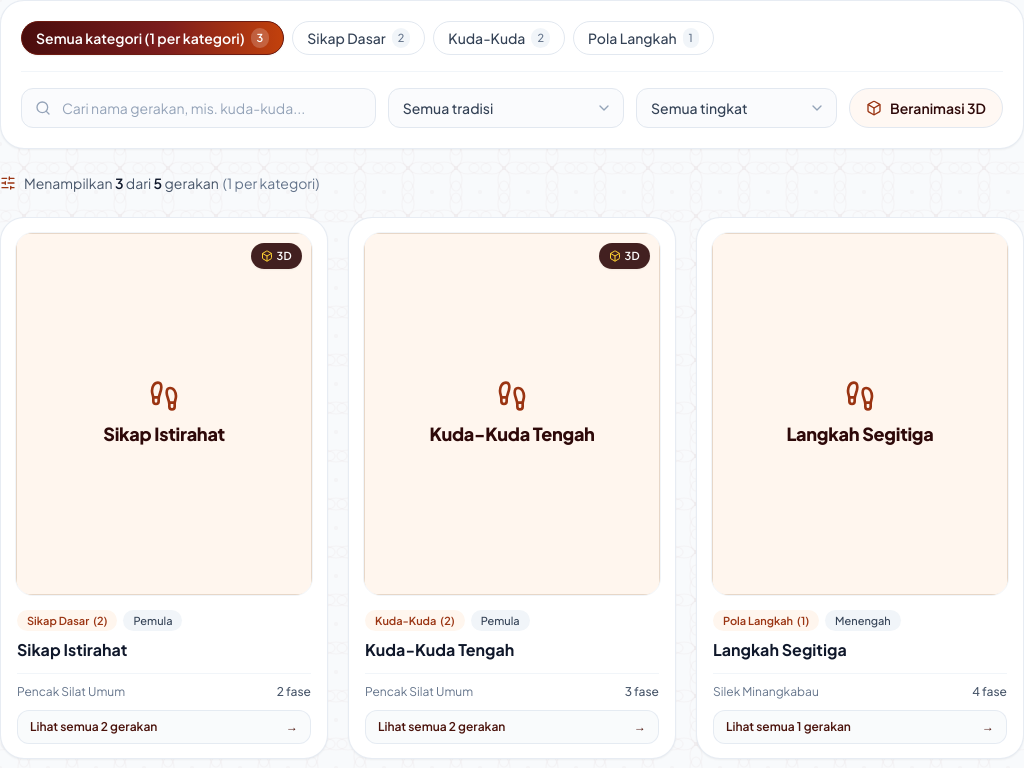
LibraryCatalog › menampilkan tepat 1 kartu sorotan per kategori di ringkasan default dan membuka semua gerakan saat kategori dipilih
Expected: the text "Menampilkan 3 dari 5 gerakan(1 per kategori)" is shown, [24, 173, 319, 193]
Expected: the text "(1 per kategori)" is shown, [223, 174, 320, 192]
# Klik tombol "Lihat semua 2 gerakan Kuda-Kuda" untuk kategori Kuda-Kuda
Click the button with aria-label "Lihat semua 2 gerakan Kuda-Kuda" at (413, 727), box [365, 710, 659, 744]
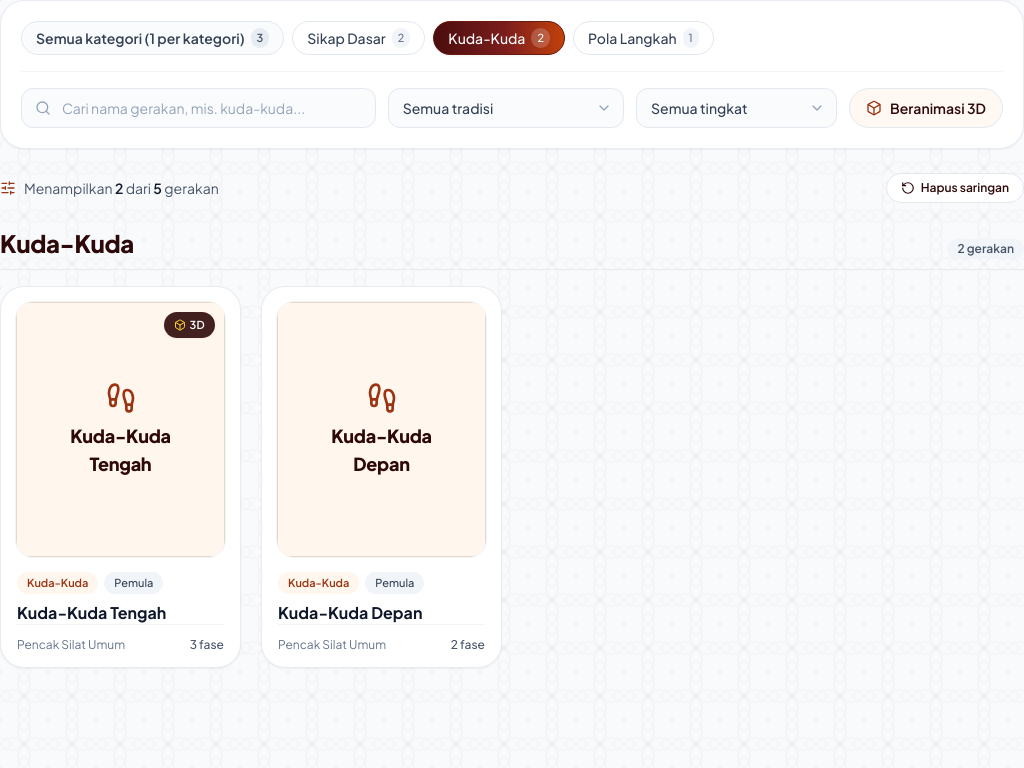
Now the text "Menampilkan 2 dari 5 gerakan" is shown, box [24, 178, 219, 198]
Now the link "Kuda-Kuda Depan" is shown, box [278, 602, 422, 623]
Now the text "Sikap Istirahat" is gone
# Klik tombol reset "Semua kategori (1 per kategori)"
Click the button "Semua kategori (1 per kategori) 3" at (153, 38), box [21, 21, 284, 55]
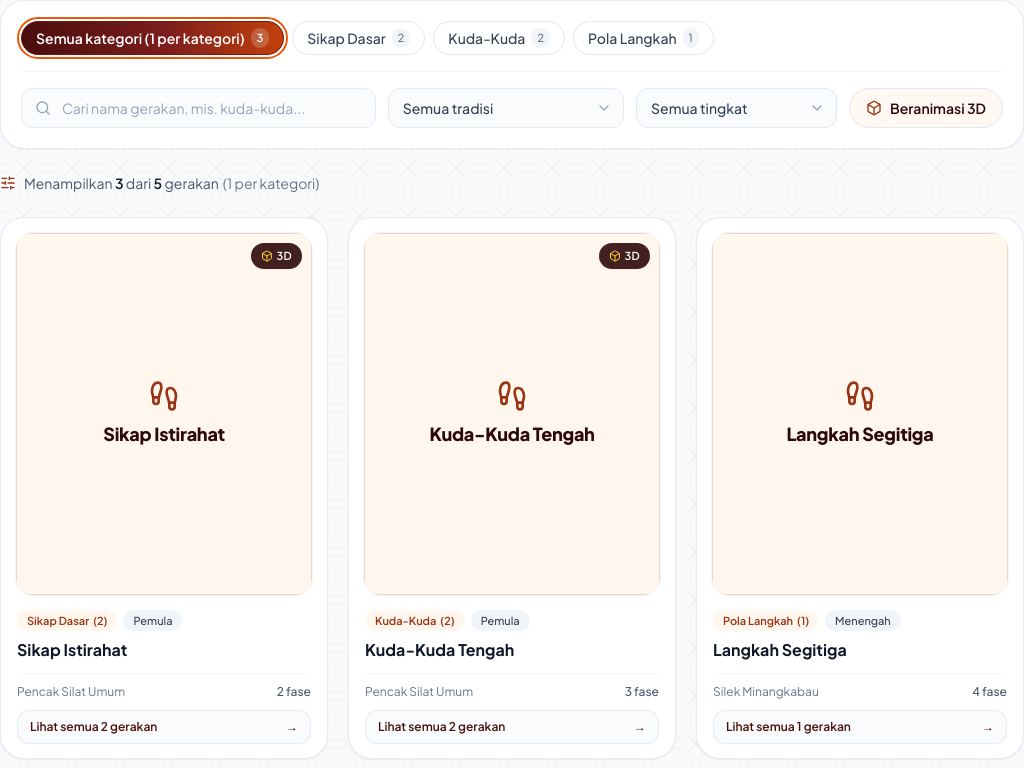
Now the text "Menampilkan 3 dari 5 gerakan(1 per kategori)" is shown, box [24, 173, 319, 193]
Now the text "Kuda-Kuda Depan" is gone
